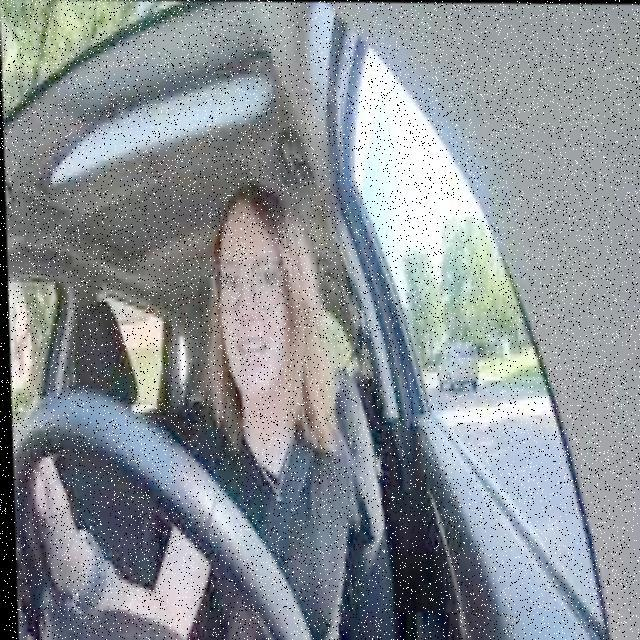seatbelt: (178, 356, 373, 574)
